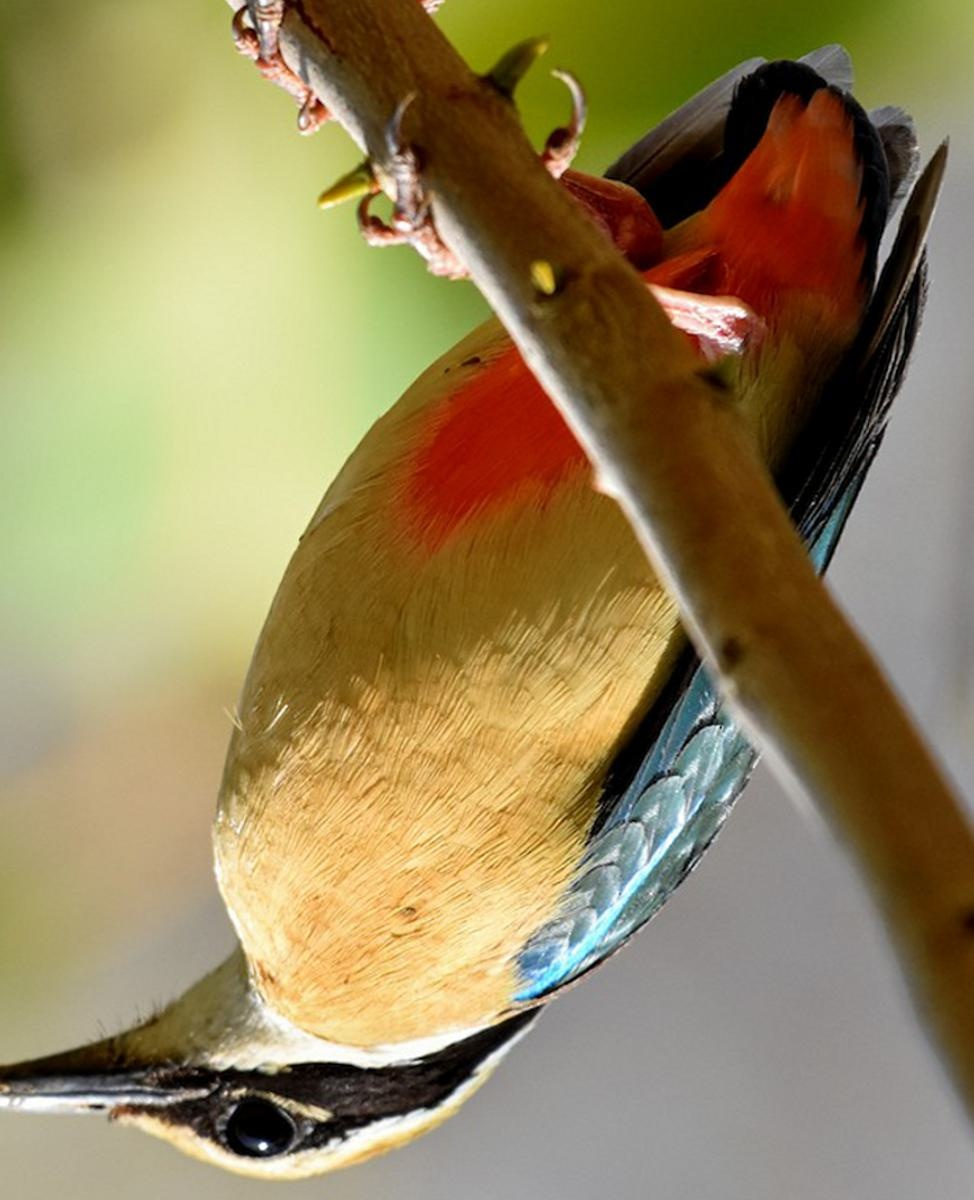pitta: (1, 59, 949, 1190)
